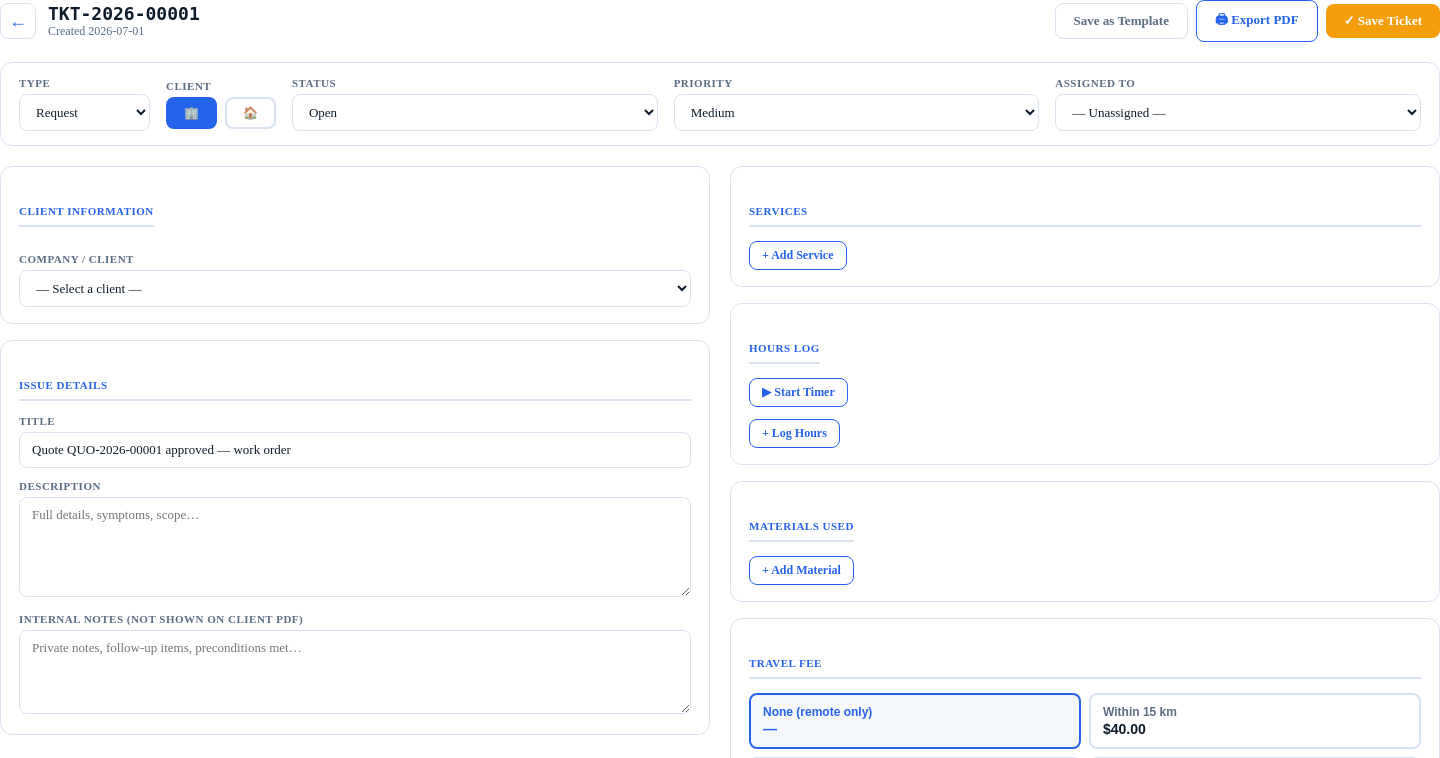
Test: prompts to convert when transitioning to Resolved with a linked Approved unconverted quote, and defers the save
Select "Resolved" in the dropdown showing "Open" below "Status" at point(475, 112), box [292, 94, 658, 131]
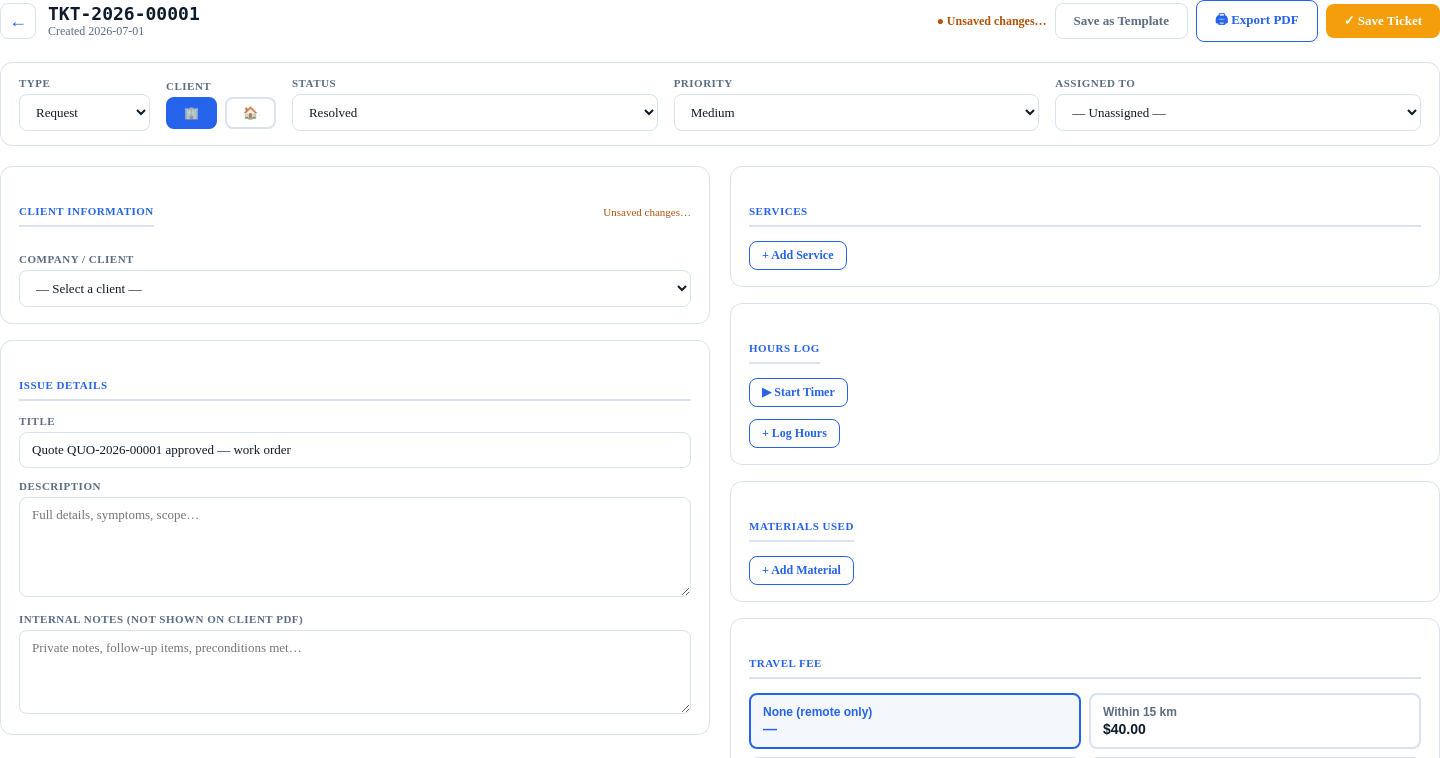
Click the button "✓ Save Ticket" at point(1383, 21), box [1326, 4, 1439, 38]
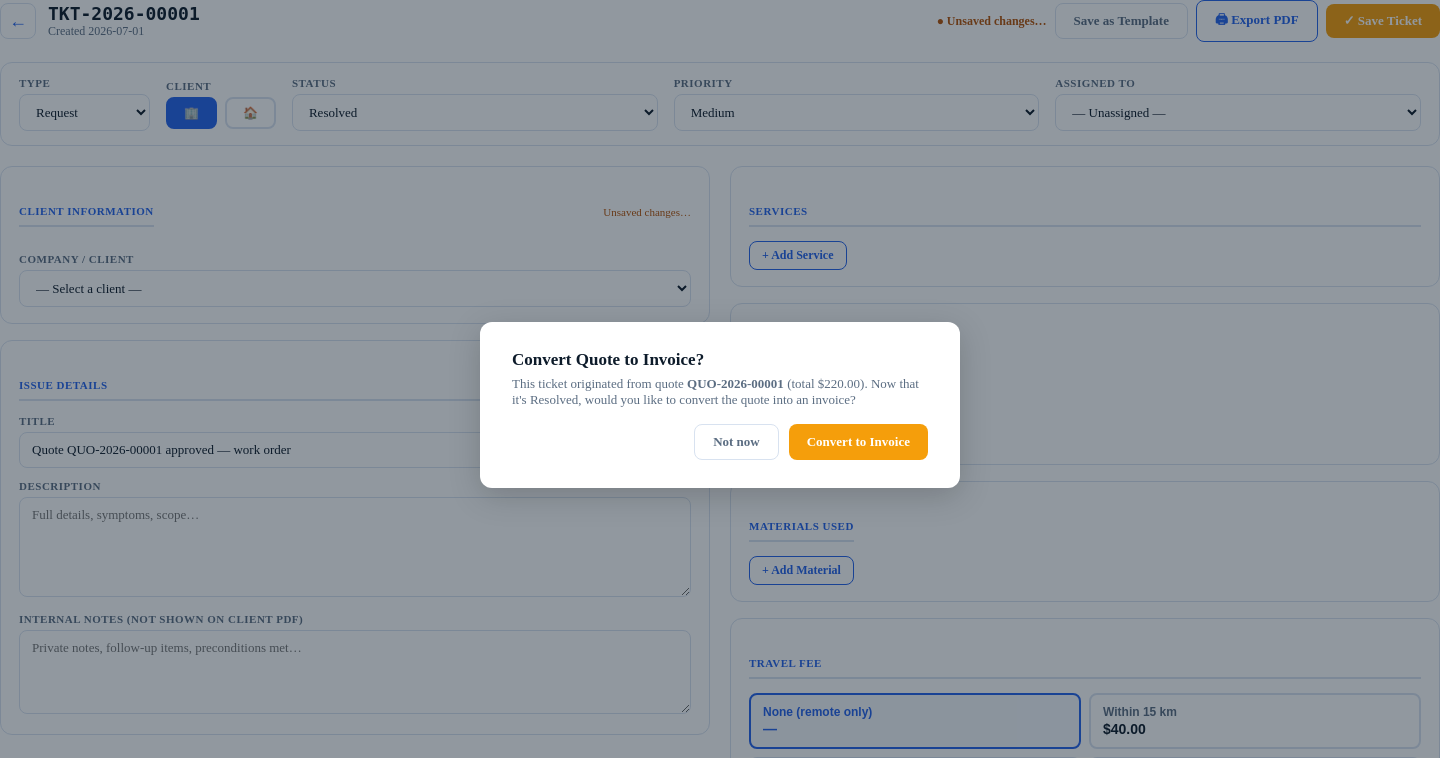
Check: the text "Convert Quote to Invoice?" is shown, box [512, 350, 704, 369]
Check: the text "QUO-2026-00001" is shown, box [687, 376, 784, 391]
